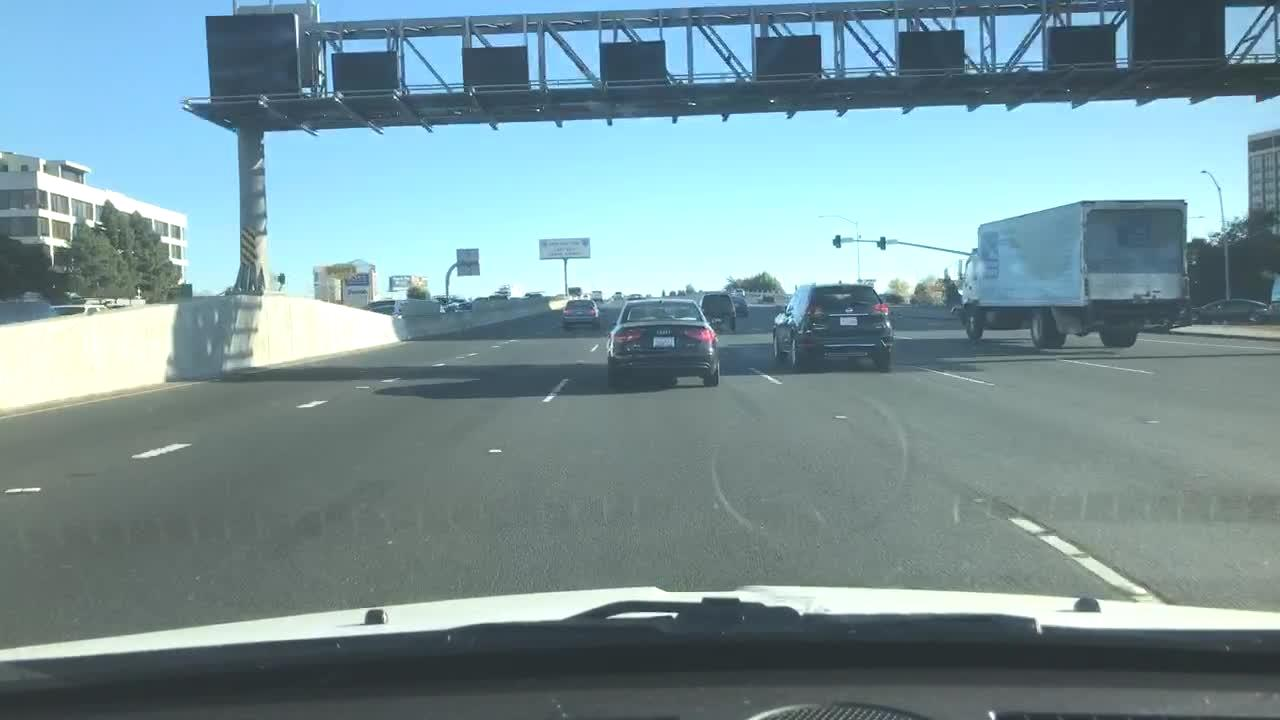Audi: (653, 327, 674, 338)
Nissan: (842, 305, 857, 315)
